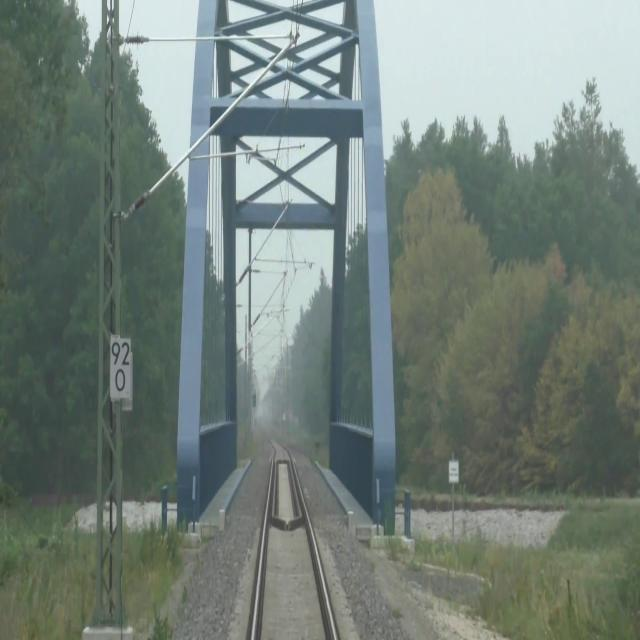rail-track: (256, 439, 332, 639)
